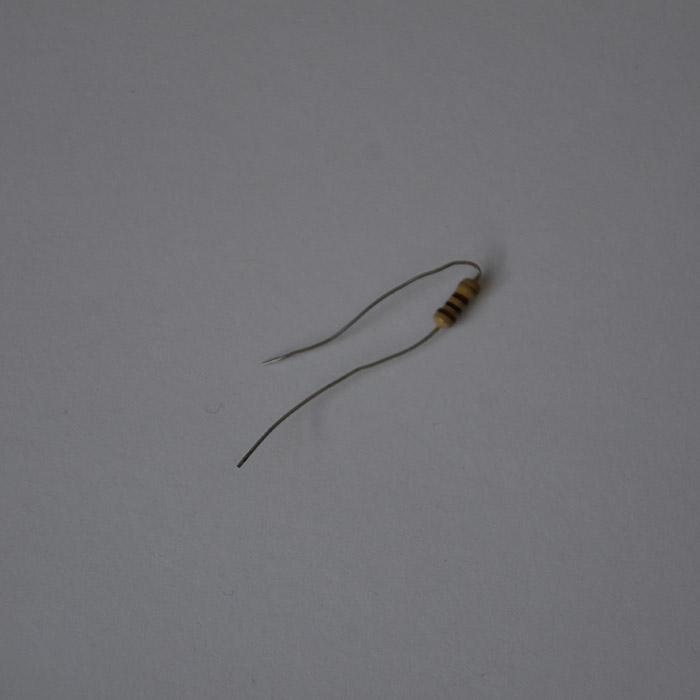resistor: (435, 275, 481, 331)
